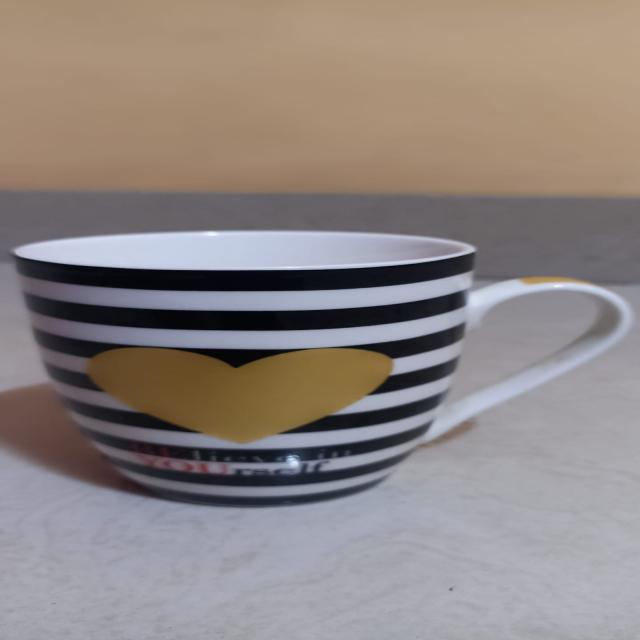cup: (12, 222, 621, 517)
